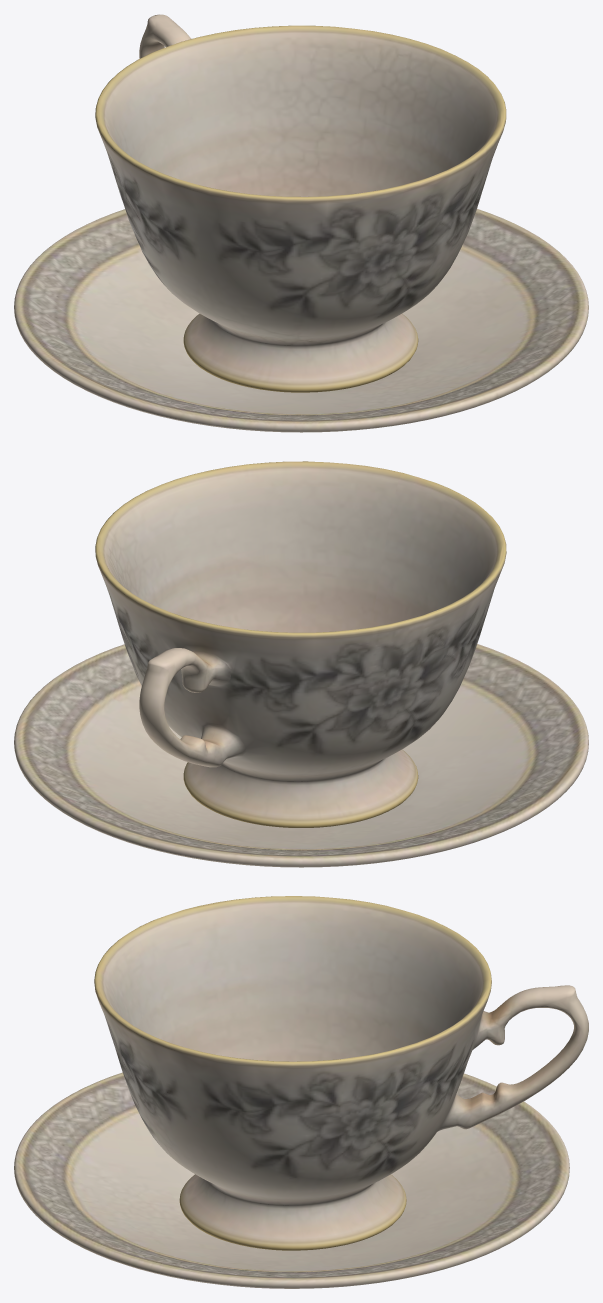
The model's file is DiffuseTransmissionTeacup.glb.
3 renders of one model, top to bottom at view 1: azimuth 30°, elevation 25°; view 2: azimuth 150°, elevation 25°; view 3: azimuth 270°, elevation 25°, orthographic. The views are drawn at different scales.
Visible parts, largest first — view 1: tea_cup, tea_saucer; view 2: tea_cup, tea_saucer; view 3: tea_cup, tea_saucer.
Boxes of the visible parts, left/top/right/bottom form: tea_cup: left=95, top=14, right=506, bottom=392; tea_saucer: left=14, top=209, right=588, bottom=432; tea_cup: left=95, top=461, right=506, bottom=827; tea_saucer: left=14, top=644, right=588, bottom=867; tea_cup: left=94, top=896, right=588, bottom=1250; tea_saucer: left=14, top=1072, right=569, bottom=1288.
Bounding box in the file's own units: 0.1486 × 0.0704 × 0.1537.
2 materials, 2 textured.
